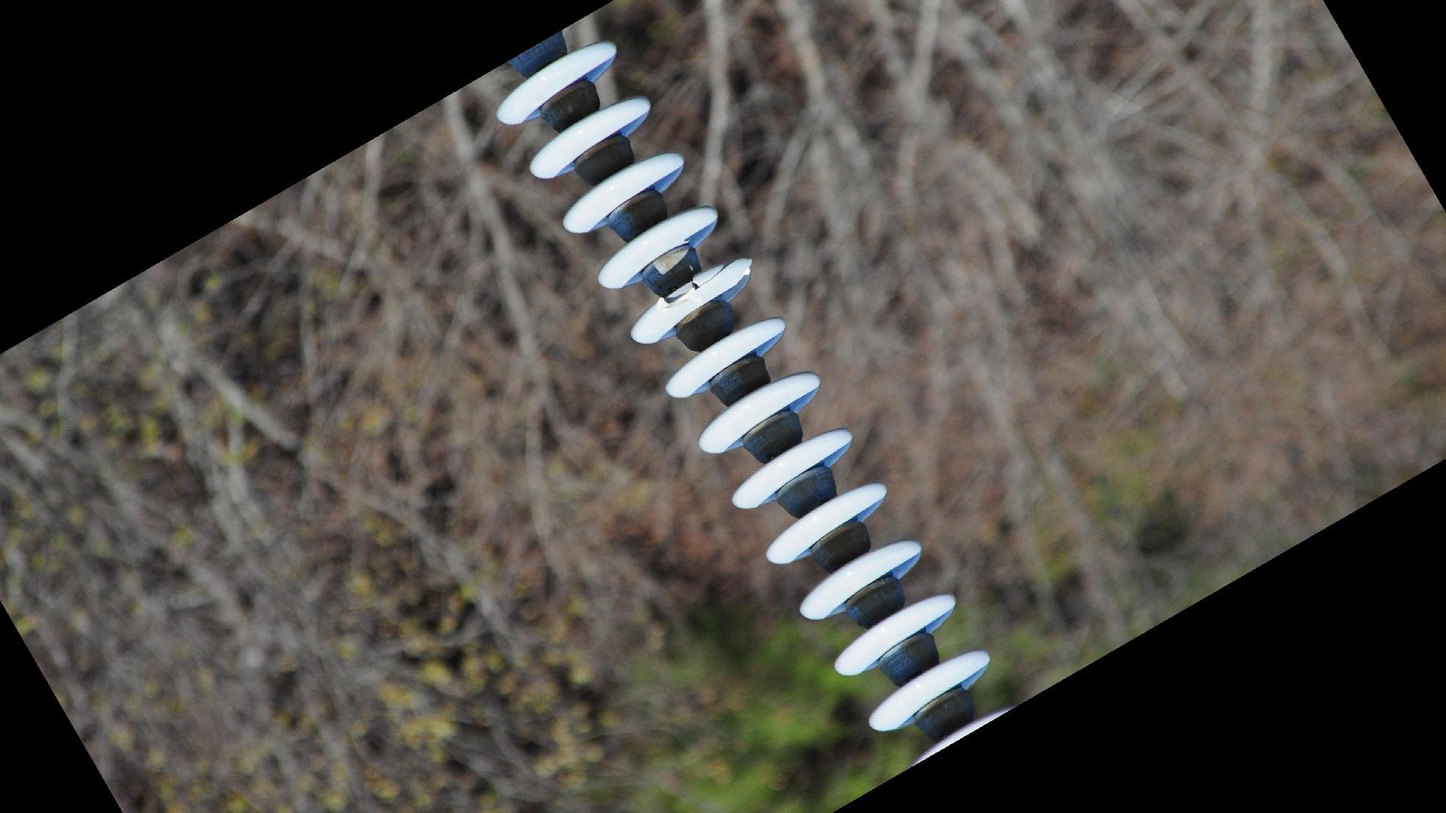insulator: (490, 36, 1019, 771)
insulator_breakage: (652, 254, 758, 317)
